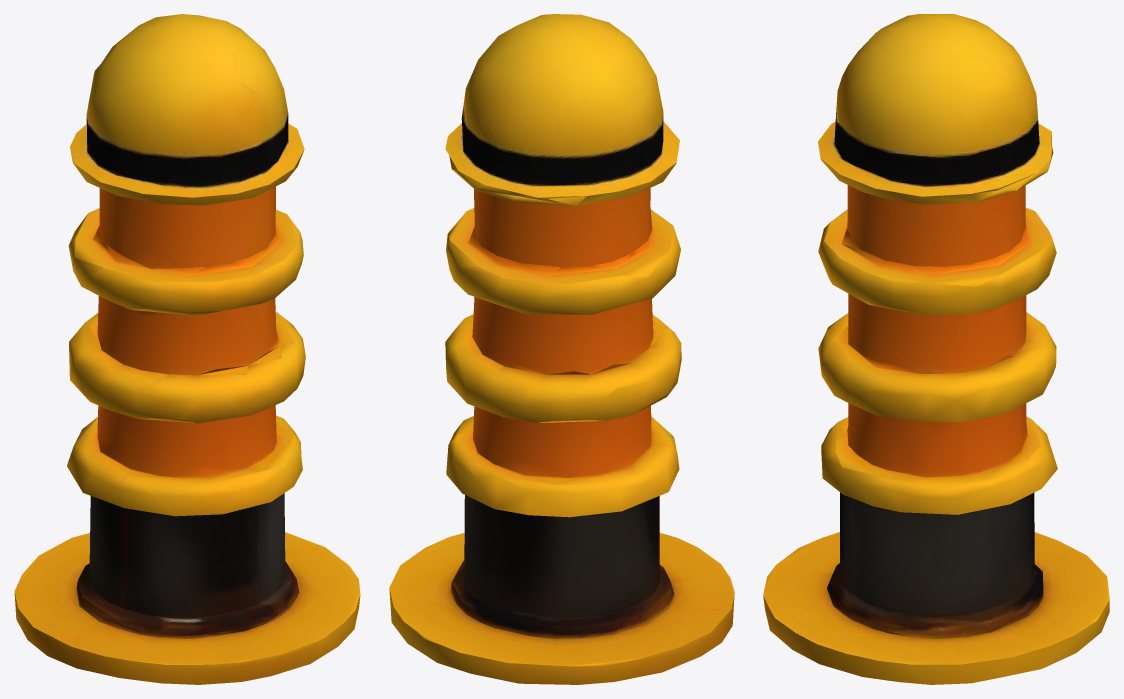
The model's file is hazardBeacon.glb.
3 views of the same model, side by side, from view 1: azimuth 30°, elevation 25°; view 2: azimuth 150°, elevation 25°; view 3: azimuth 270°, elevation 25° (orthographic).
Visible parts, largest first — view 1: model; view 2: model; view 3: model.
Boxes of the visible parts, x1,y1,x2,y2 form: model: [14, 14, 360, 684]; model: [389, 14, 734, 684]; model: [763, 14, 1109, 684].
Bounding box in the file's own units: 1.02 × 1.9 × 1.01.
Materials: 1 (1 with a texture image).
